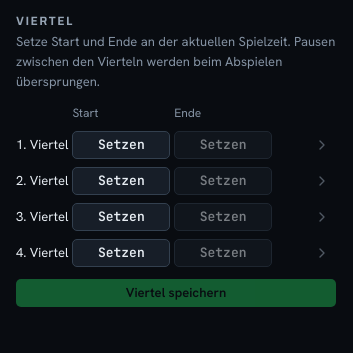
Test: QuarterEditor › refreshes the page after a successful save
Click the 1st button "Setzen". click: coordinates (121, 145)
box: left=72, top=131, right=170, bottom=159
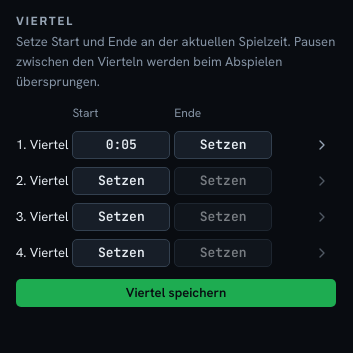
Click the button "Viertel speichern". click: coordinates (176, 293)
box: left=16, top=279, right=336, bottom=307
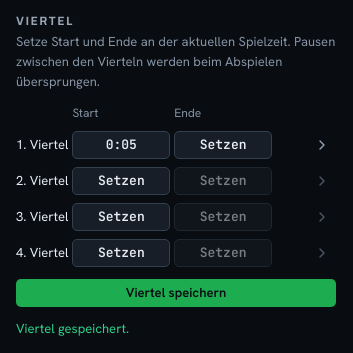
Now the message reads "Viertel gespeichert.", box left=16, top=320, right=129, bottom=337
